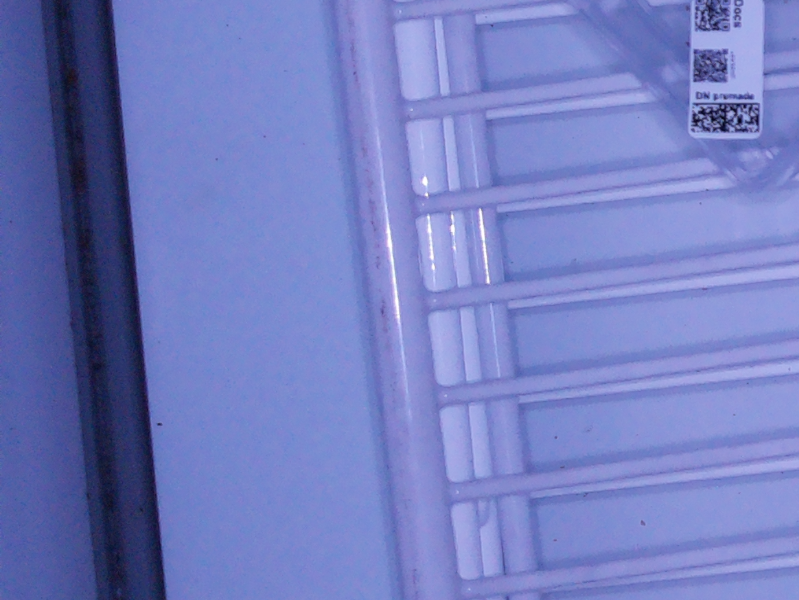plate: (561, 1, 799, 199)
